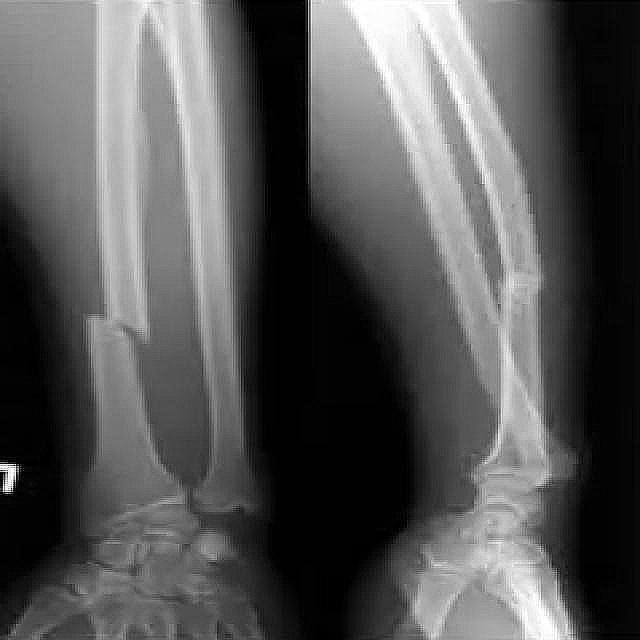bone: (74, 302, 162, 359), (492, 262, 556, 312)
